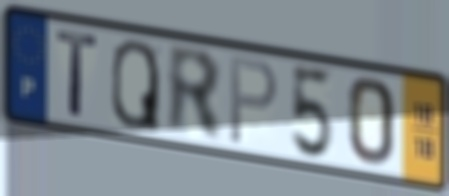0: (345, 74, 398, 170)
5: (289, 61, 336, 162)
P: (227, 54, 281, 149)
Q: (109, 37, 163, 135)
R: (165, 41, 225, 146)
T: (54, 26, 101, 121)
